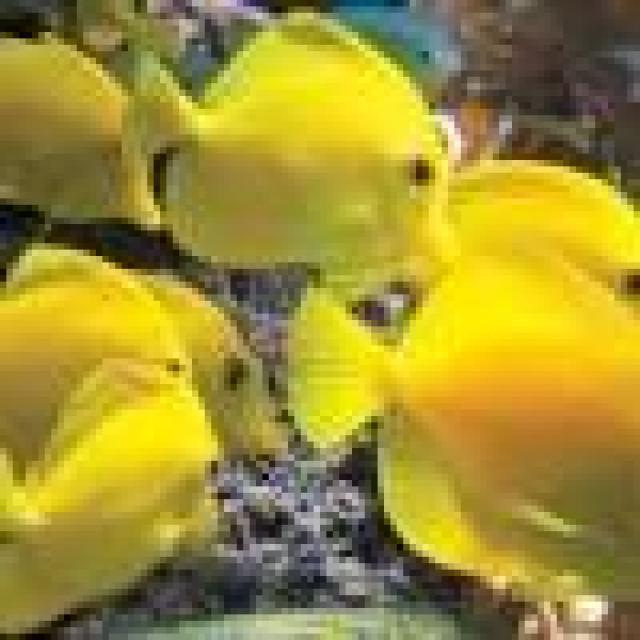YellowTang: (284, 242, 639, 609), (127, 2, 463, 274), (4, 351, 228, 638), (0, 233, 198, 480), (0, 10, 165, 238)
